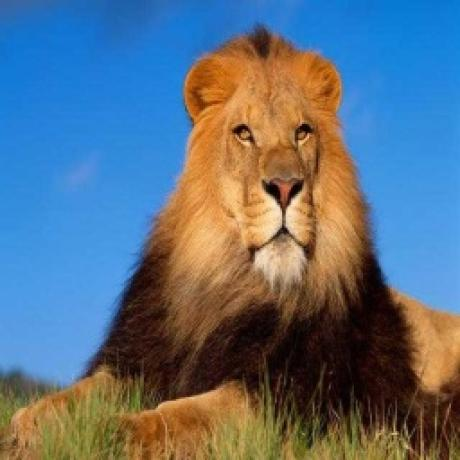Lion: (15, 16, 460, 423)
